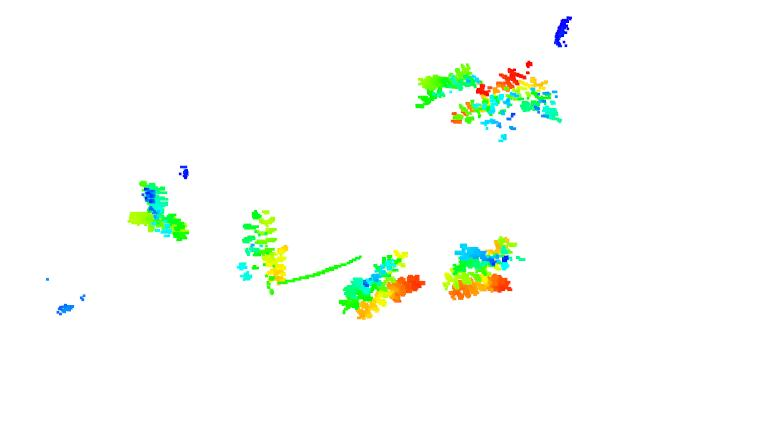chickpea: (450, 60, 566, 142), (337, 250, 426, 320), (444, 235, 524, 304), (238, 209, 288, 294), (129, 181, 191, 242), (412, 60, 480, 111)
